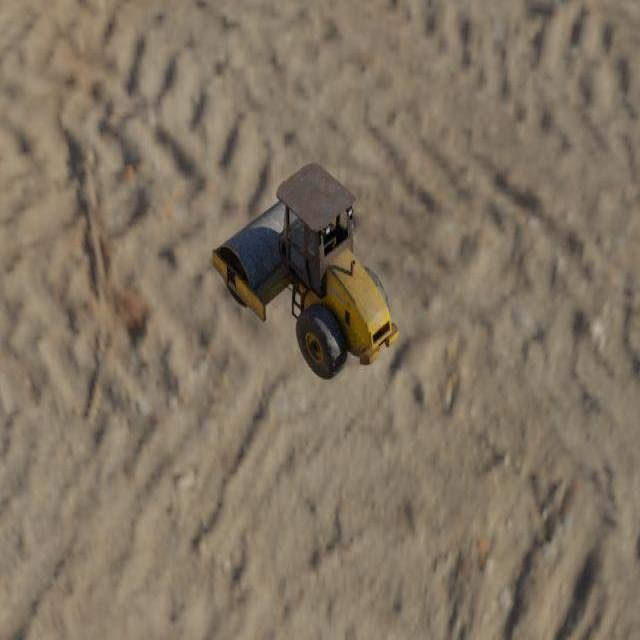Roller: (211, 161, 398, 380)
